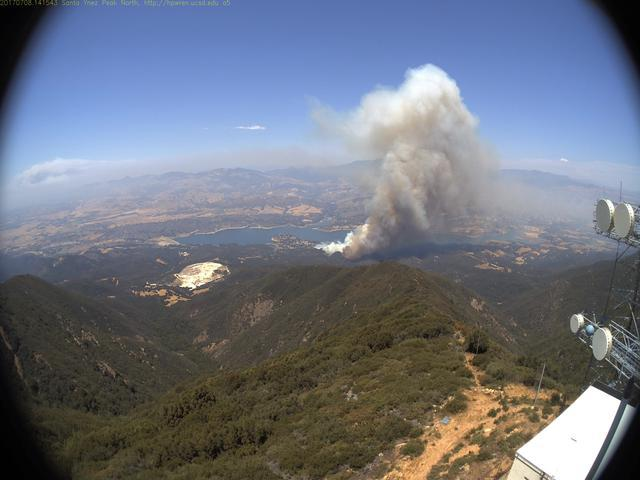smoke: (308, 63, 507, 260)
